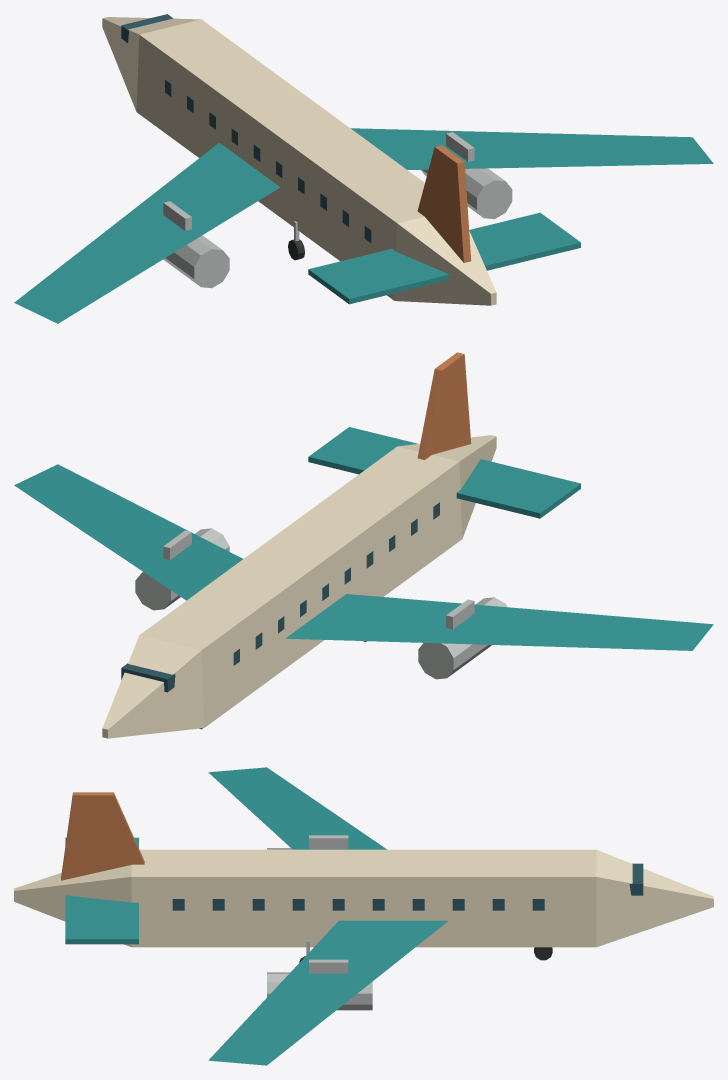
3 renders of one model, top to bottom at view 1: azimuth 30°, elevation 25°; view 2: azimuth 150°, elevation 25°; view 3: azimuth 270°, elevation 25°, orthographic. The views are drawn at different scales.
Visible parts, largest first — view 1: Airliner fuselage, PlaneModel traffic_teal, PlaneModel traffic_metal, Vertical tail, PlaneModel traffic_glass; view 2: Airliner fuselage, PlaneModel traffic_teal, PlaneModel traffic_metal, Vertical tail, PlaneModel traffic_glass; view 3: Airliner fuselage, PlaneModel traffic_teal, Vertical tail, PlaneModel traffic_metal, PlaneModel traffic_glass.
Part boxes in pixels (x1=…): Airliner fuselage: x1=102, y1=17, x2=496, y2=305; PlaneModel traffic_teal: x1=14, y1=128, x2=713, y2=323; PlaneModel traffic_metal: x1=163, y1=132, x2=512, y2=288; Vertical tail: x1=417, y1=145, x2=471, y2=262; PlaneModel traffic_glass: x1=121, y1=14, x2=371, y2=242; Airliner fuselage: x1=102, y1=435, x2=496, y2=738; PlaneModel traffic_teal: x1=14, y1=427, x2=713, y2=650; PlaneModel traffic_metal: x1=135, y1=528, x2=507, y2=679; Vertical tail: x1=417, y1=352, x2=471, y2=459; PlaneModel traffic_glass: x1=121, y1=502, x2=439, y2=692; Airliner fuselage: x1=14, y1=849, x2=713, y2=947; PlaneModel traffic_teal: x1=65, y1=767, x2=448, y2=1065; Vertical tail: x1=61, y1=792, x2=144, y2=880; PlaneModel traffic_metal: x1=267, y1=835, x2=372, y2=1010; PlaneModel traffic_glass: x1=172, y1=863, x2=643, y2=910.
Size of the model in its own units: 12 by 3.09 by 11.9.
